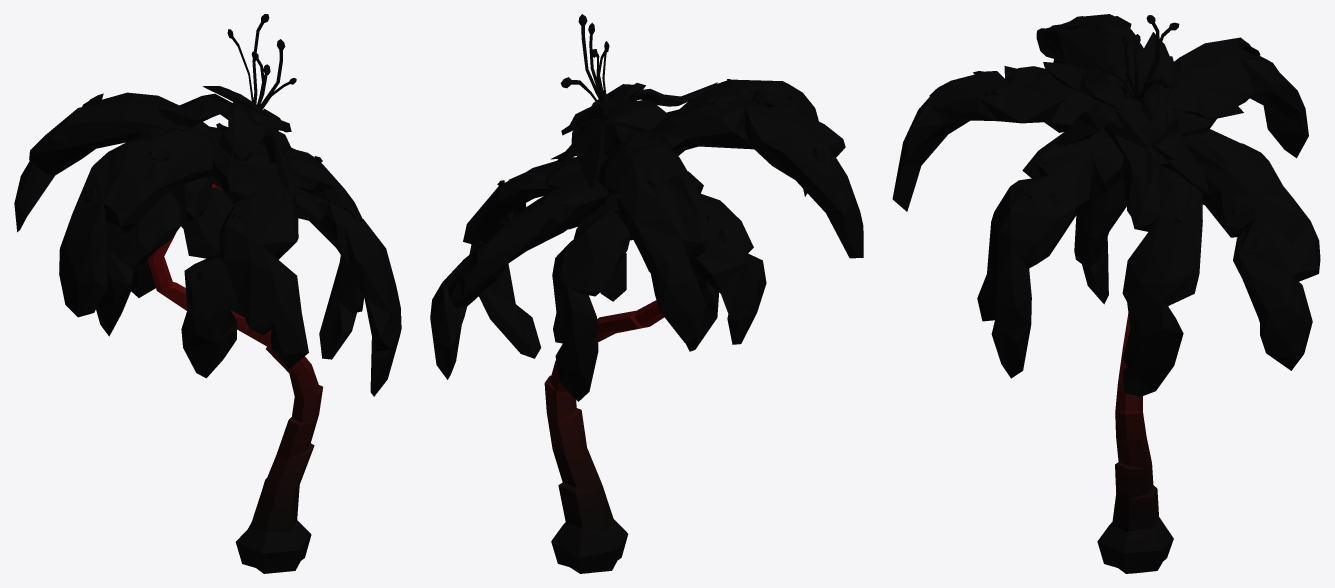
File: SM_Env_Tree_Palm_01.FBX
3 renders of one model, left to right at view 1: azimuth 30°, elevation 25°; view 2: azimuth 150°, elevation 25°; view 3: azimuth 270°, elevation 25°, orthographic.
Parts seen in each view (by area): view 1: SM_Env_Tree_Palm_01; view 2: SM_Env_Tree_Palm_01; view 3: SM_Env_Tree_Palm_01.
Boxes of the visible parts, box(x1,y1,x2,y2) form: SM_Env_Tree_Palm_01: box(14, 14, 401, 573); SM_Env_Tree_Palm_01: box(430, 14, 863, 573); SM_Env_Tree_Palm_01: box(892, 14, 1320, 573).
Size of the model in its own units: 558 by 604 by 869.
